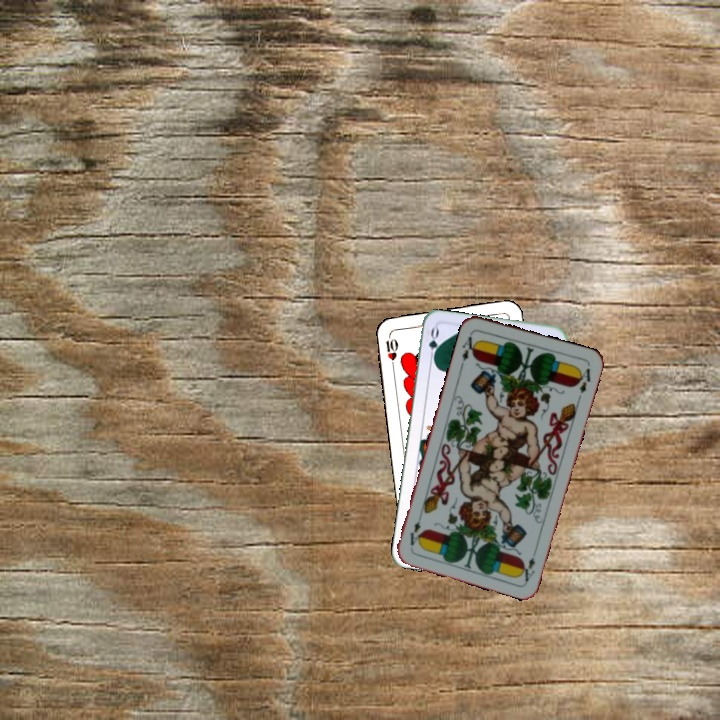EA: (517, 544, 540, 584), (457, 333, 480, 369)
GO: (425, 324, 442, 365)
H10: (381, 330, 400, 370)
